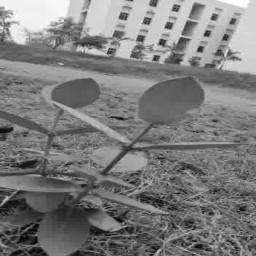CALOTROPIS: (10, 75, 247, 243)
